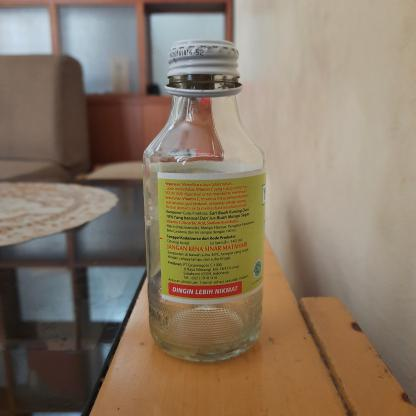bottle: (135, 36, 272, 373)
